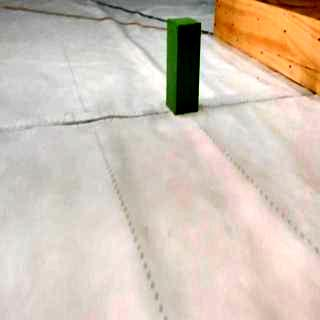greenbox: (164, 15, 202, 116)
